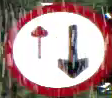Two way: (6, 4, 111, 90)
